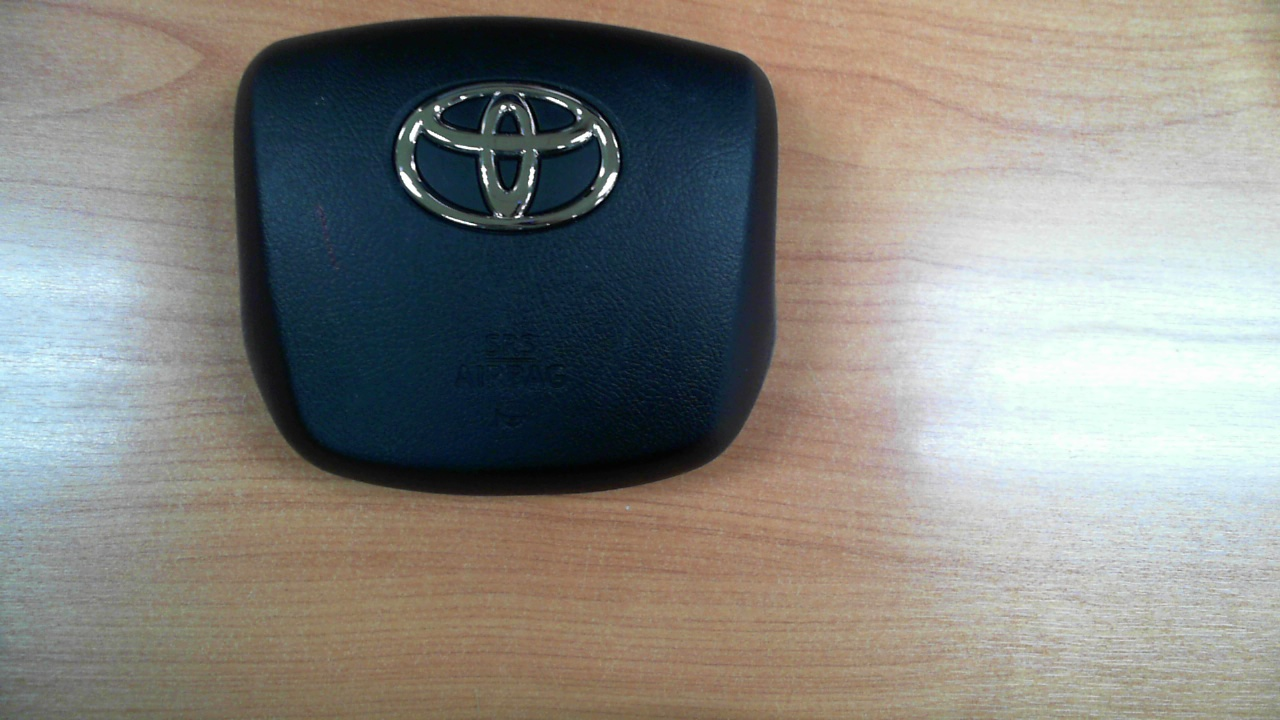Airbag: (225, 15, 780, 496)
Toyota: (394, 82, 621, 231)
